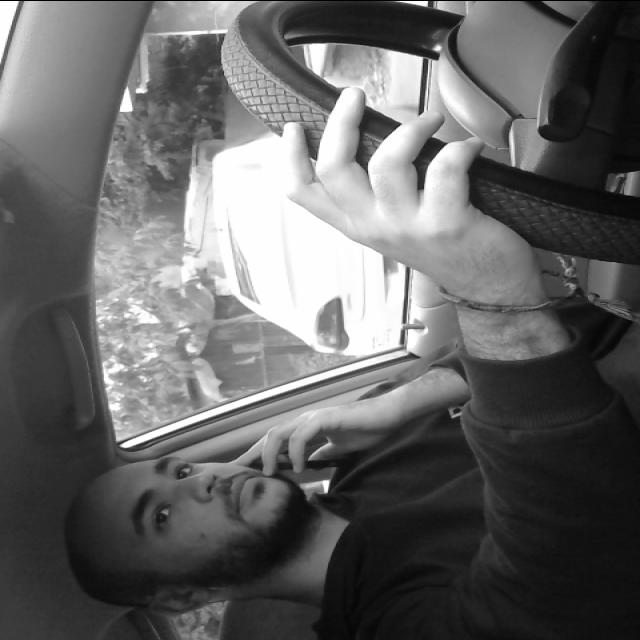mobile use: (220, 448, 348, 476)
